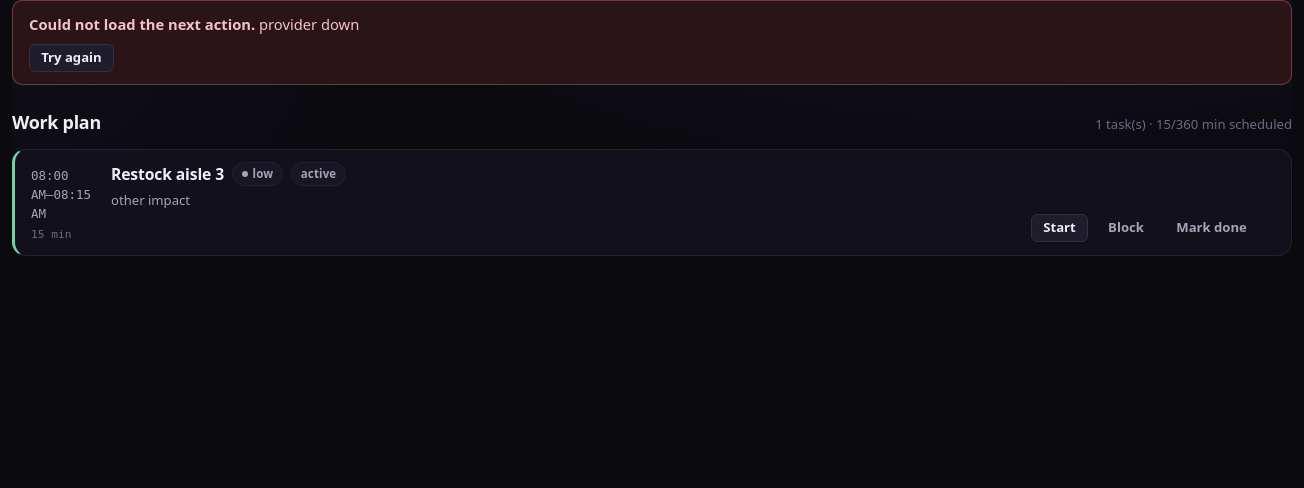
Test: PlanView › surfaces a failed next-action request with a retry action
Expected: the message shows "Could not load the next action", [12,0,1292,85]
Expected: the message shows "provider down", [259,14,359,34]
Click the button "Try again". click: (71, 58)
box: [29,44,114,72]
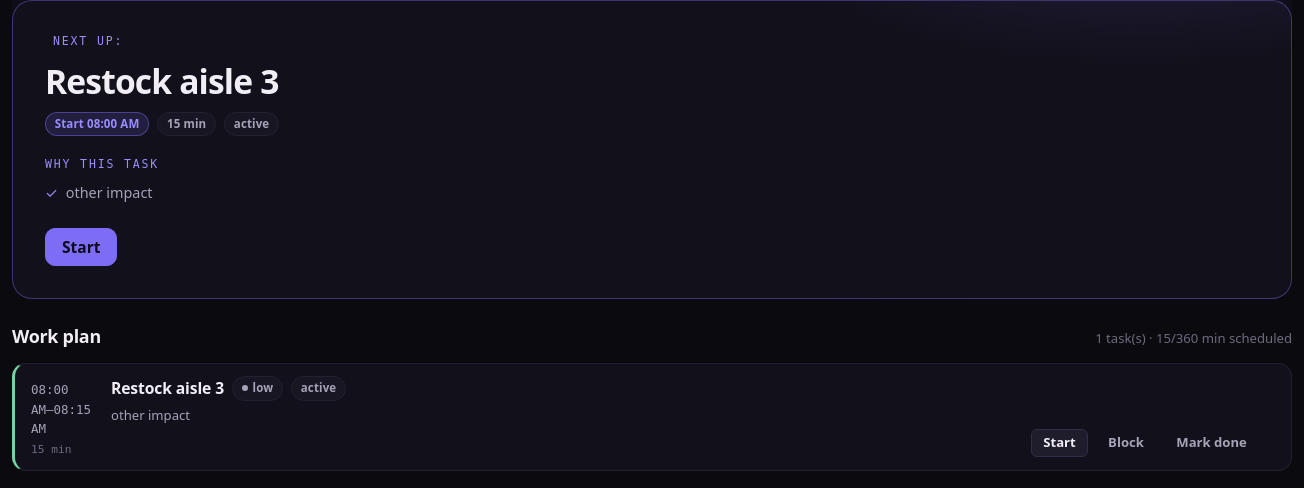
Expected: the text "Next up:" is shown, [53,34,123,48]
